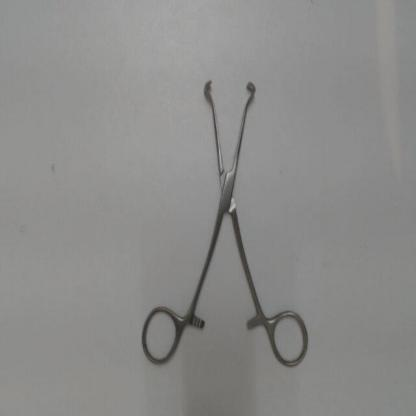Babcock Tissue Forceps: (137, 72, 317, 376)
